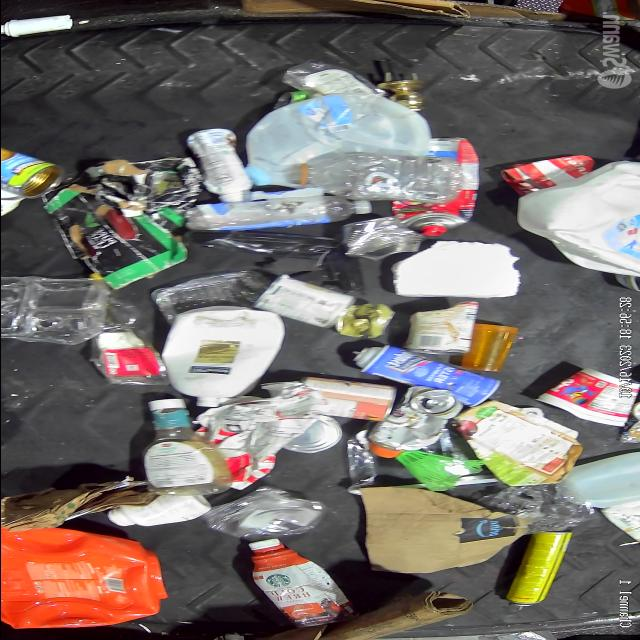can: (350, 345, 500, 407), (366, 386, 462, 450), (502, 530, 574, 610), (256, 273, 356, 329), (297, 376, 397, 422), (402, 301, 480, 356), (342, 216, 422, 262), (1, 147, 66, 199), (332, 302, 396, 339), (282, 414, 342, 453)
milk_jug: (245, 90, 429, 188), (518, 160, 640, 276), (160, 308, 284, 408), (554, 449, 640, 506)
non_white_jug: (0, 527, 170, 629), (243, 538, 357, 628)
plastic_bottle: (286, 154, 464, 204), (184, 196, 372, 232)
